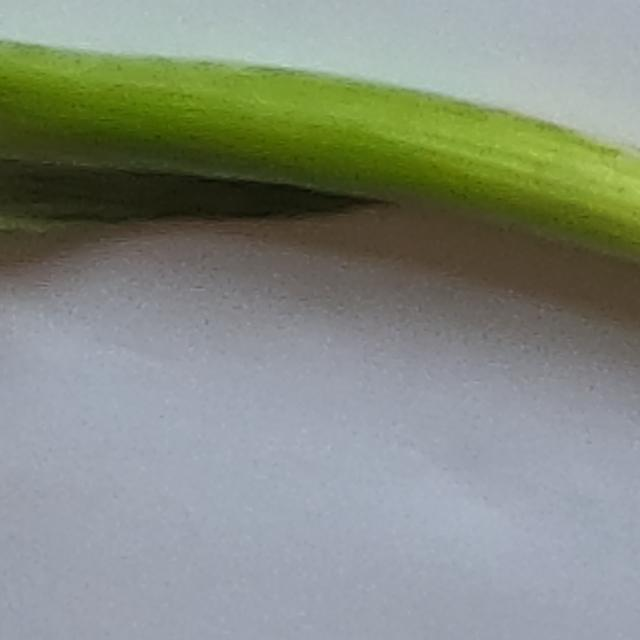green_onion: (0, 44, 640, 305)
